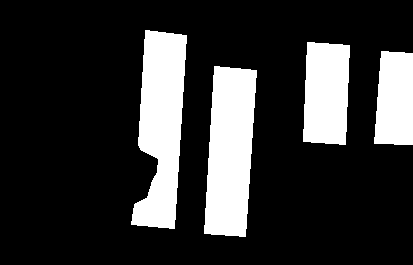parkingspot: (131, 30, 186, 228), (204, 66, 256, 236), (303, 42, 349, 144), (374, 51, 413, 144)
